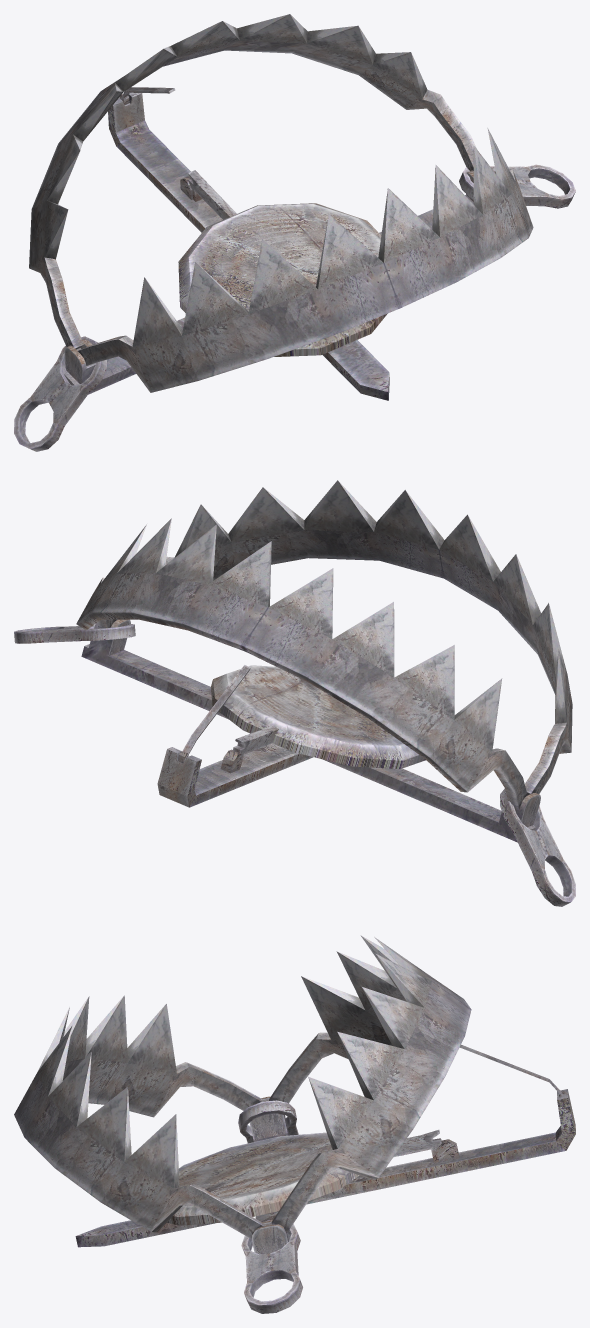
3 renders of one model, top to bottom at view 1: azimuth 30°, elevation 25°; view 2: azimuth 150°, elevation 25°; view 3: azimuth 270°, elevation 25°, orthographic.
Parts seen in each view (by area): view 1: Trap_LeftSide, Trap_RightSide, Trap_Center, Trap_Cross, Trap_1, Trap_4; view 2: Trap_RightSide, Trap_LeftSide, Trap_Cross, Trap_Center, Trap_1, Trap_3, Trap_4; view 3: Trap_LeftSide, Trap_RightSide, Trap_Cross, Trap_Center, Trap_1, Trap_4.
Part boxes in pixels (x1,y1,x2,y2): Trap_LeftSide: [78, 128, 533, 392]; Trap_RightSide: [29, 14, 476, 349]; Trap_Center: [178, 203, 387, 356]; Trap_Cross: [64, 92, 494, 400]; Trap_1: [14, 164, 575, 451]; Trap_4: [188, 170, 236, 219]; Trap_RightSide: [76, 518, 527, 809]; Trap_LeftSide: [165, 480, 572, 794]; Trap_Cross: [81, 619, 540, 842]; Trap_Center: [210, 665, 425, 768]; Trap_1: [14, 624, 575, 906]; Trap_3: [182, 665, 250, 760]; Trap_4: [233, 726, 278, 767]; Trap_LeftSide: [14, 995, 265, 1238]; Trap_RightSide: [269, 935, 471, 1233]; Trap_Cross: [75, 1089, 575, 1253]; Trap_Center: [167, 1132, 359, 1225]; Trap_1: [238, 1100, 302, 1313]; Trap_4: [393, 1129, 441, 1162].
Bounding box in the file's own units: 140 × 81.81 × 122.
Materials: 1 (1 with a texture image).
